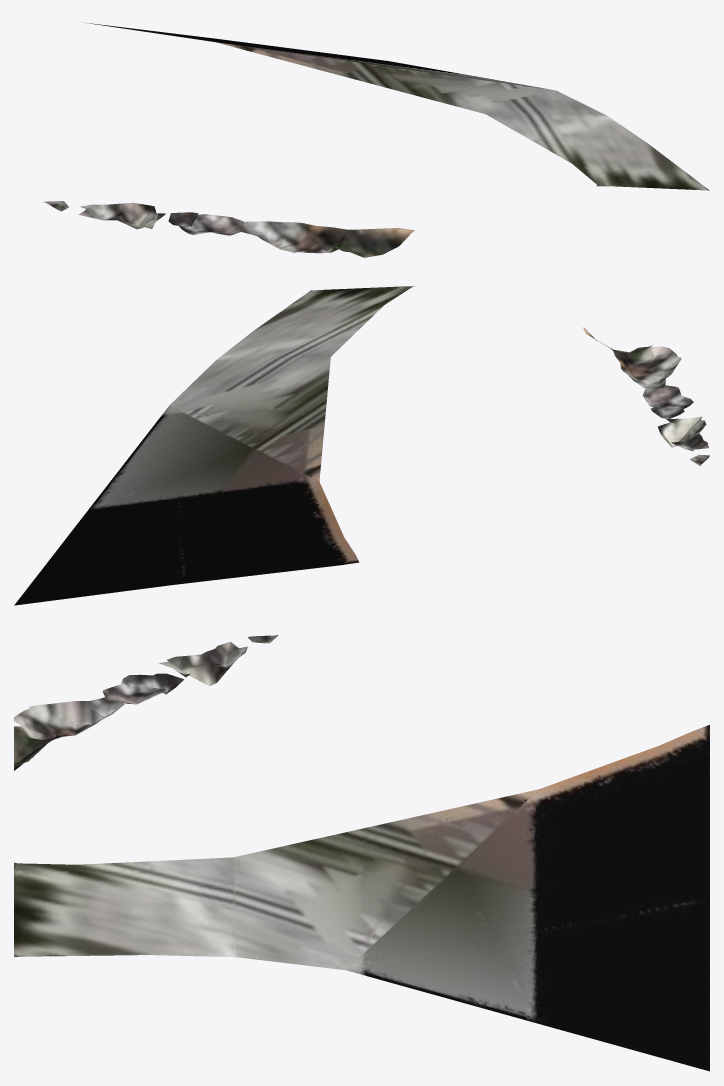
3 renders of one model, top to bottom at view 1: azimuth 30°, elevation 25°; view 2: azimuth 150°, elevation 25°; view 3: azimuth 270°, elevation 25°, orthographic. The views are drawn at different scales.
Size of the model in its own units: 3.28 by 0.7927 by 3.35.
1 material, 1 textured.
